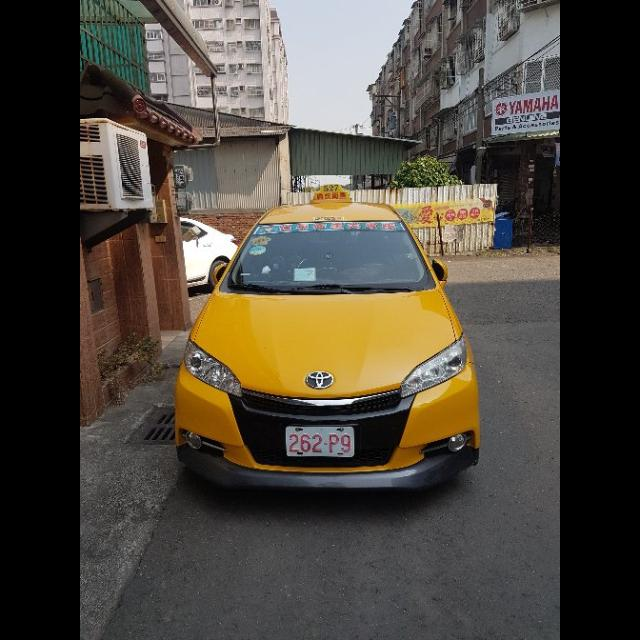plate: (286, 426, 355, 457)
